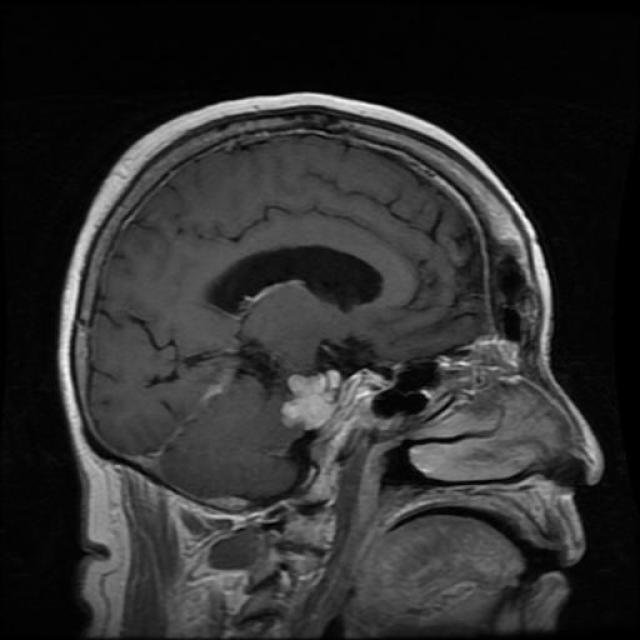meningioma: (281, 374, 339, 430)
